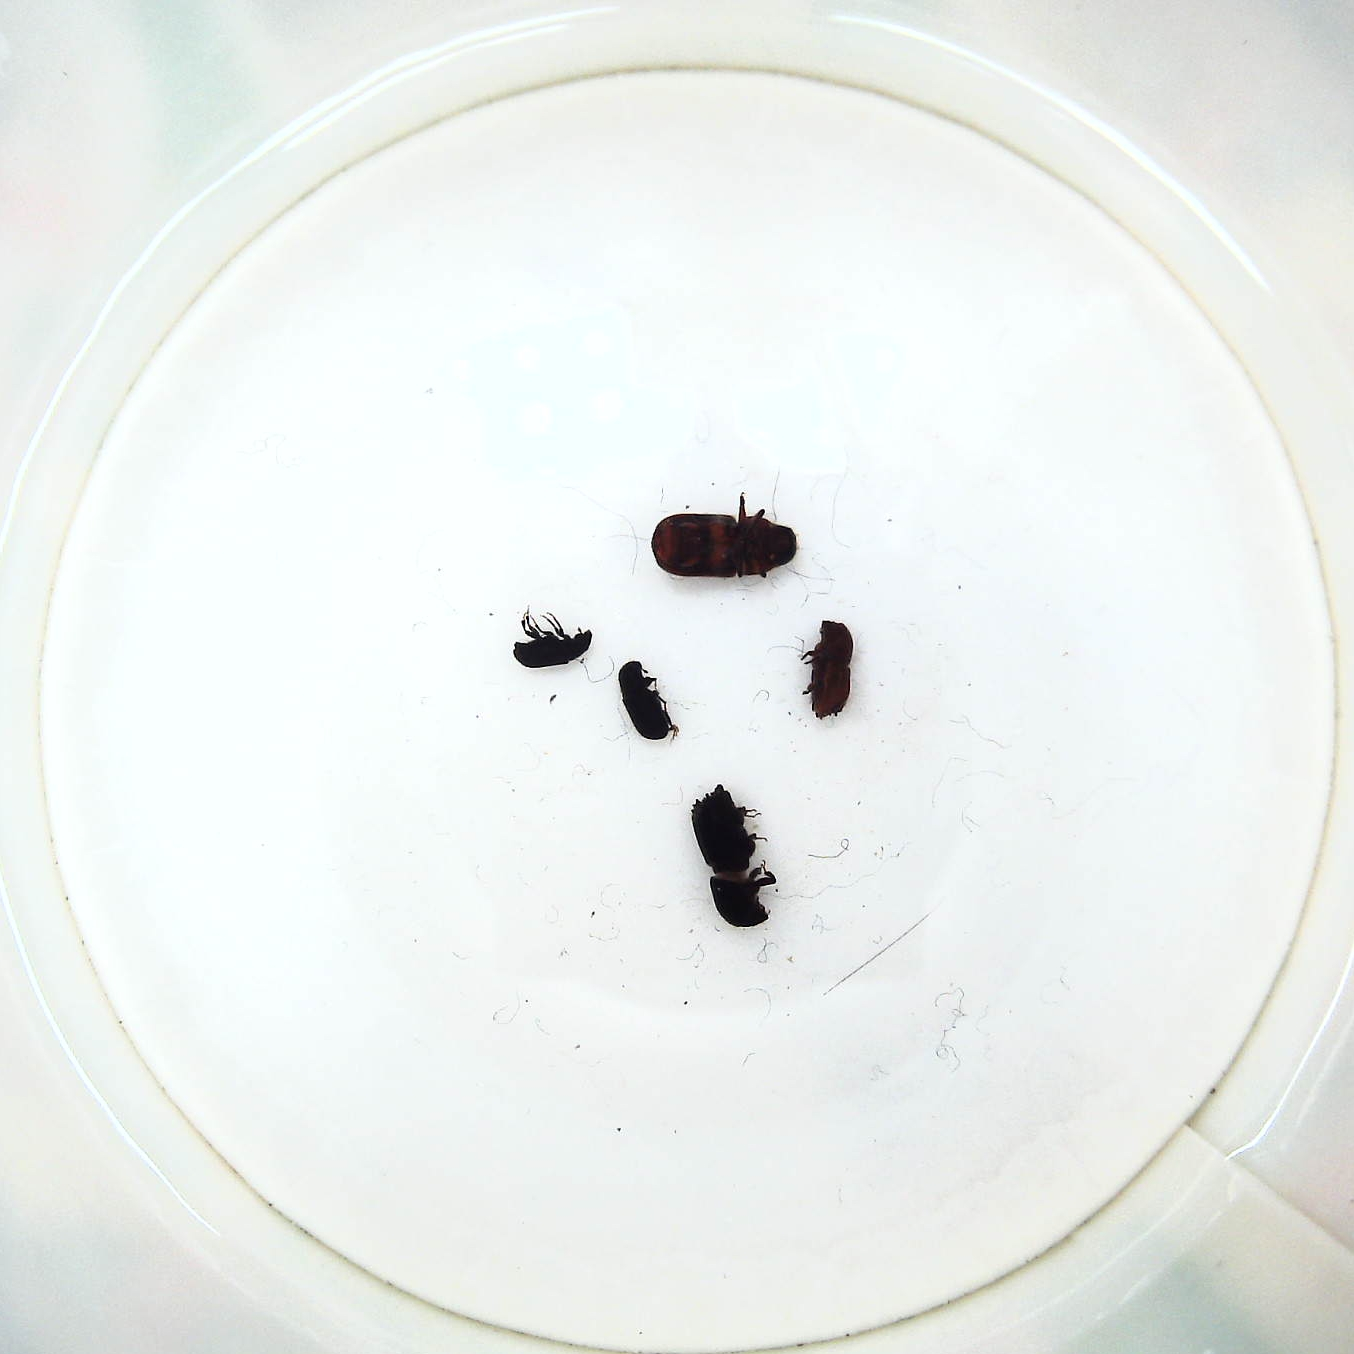Boerner: (687, 784, 785, 931)
Leconte: (648, 493, 803, 586)
armandi: (609, 655, 675, 745)
coleoptera: (507, 604, 603, 670)
linnaeus: (803, 614, 856, 724)
